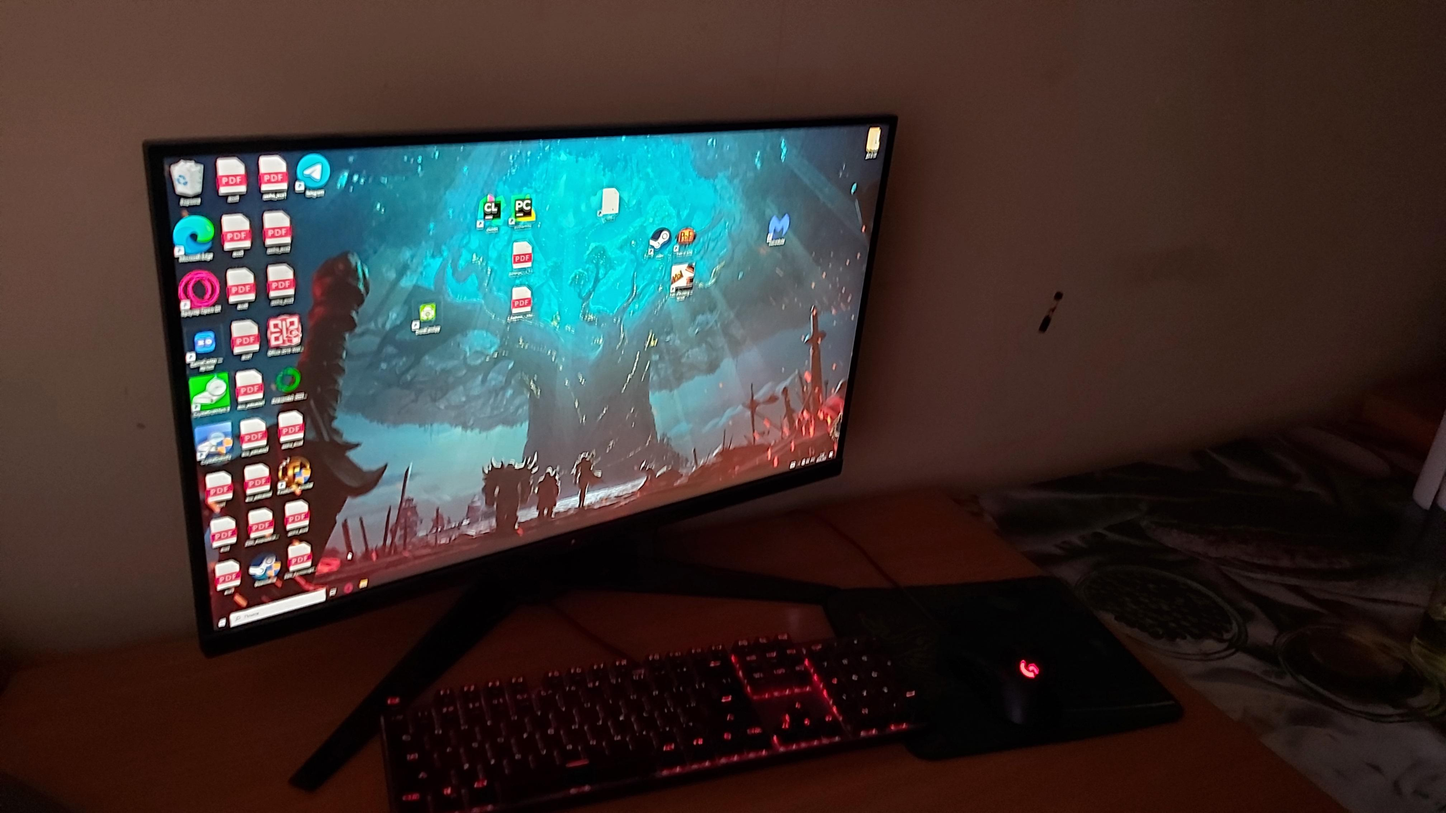monitor: (131, 100, 904, 669)
